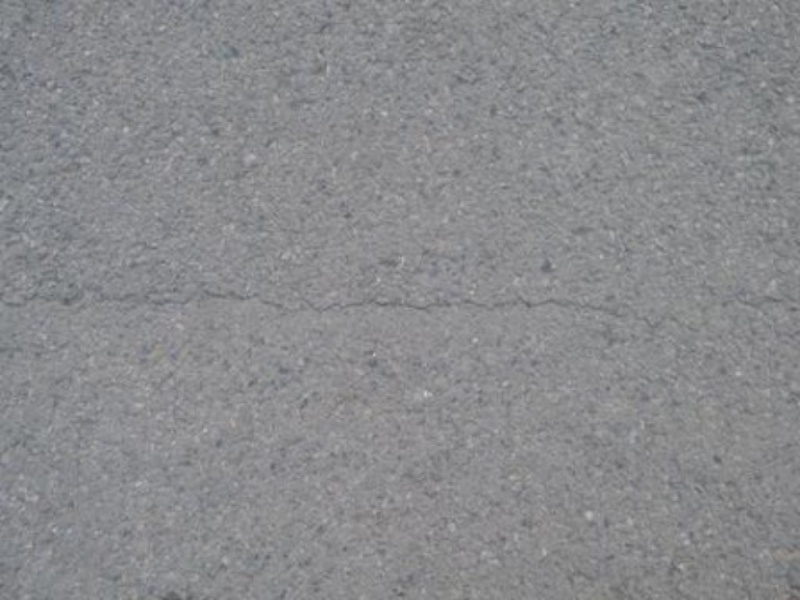crack: (6, 263, 657, 376)
